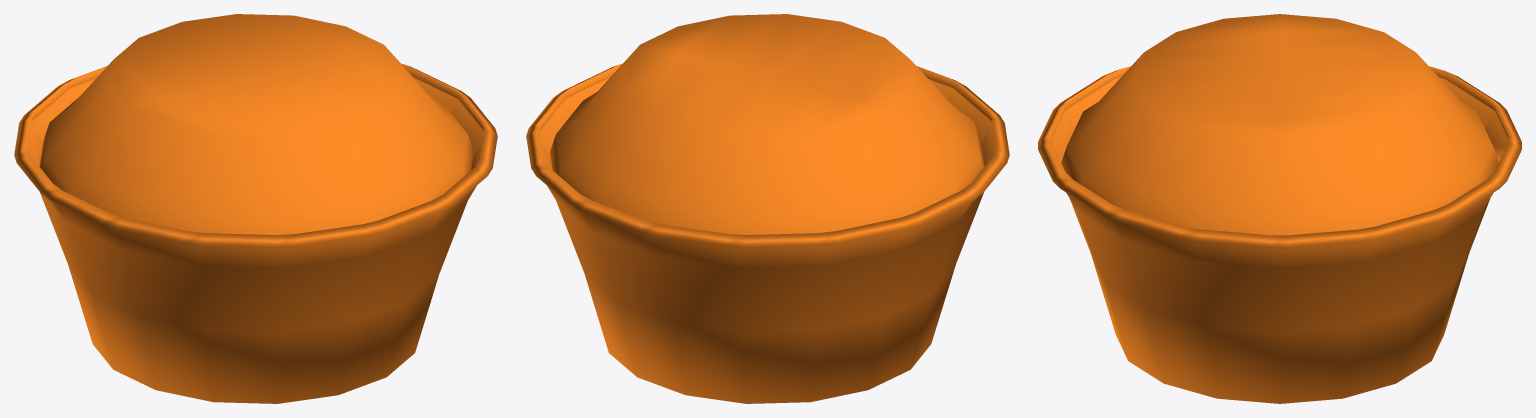
The model's file is Maceta.fbx.
The picture shows the model from 3 angles, left to right: view 1: azimuth 30°, elevation 25°; view 2: azimuth 150°, elevation 25°; view 3: azimuth 270°, elevation 25°; orthographic projection.
Visible parts, largest first — view 1: Maceta; view 2: Maceta; view 3: Maceta.
Boxes of the visible parts, left/top/right/bottom form: Maceta: left=14, top=14, right=497, bottom=403; Maceta: left=526, top=14, right=1009, bottom=403; Maceta: left=1038, top=14, right=1521, bottom=403.
Size of the model in its own units: 122 by 71.99 by 122.
